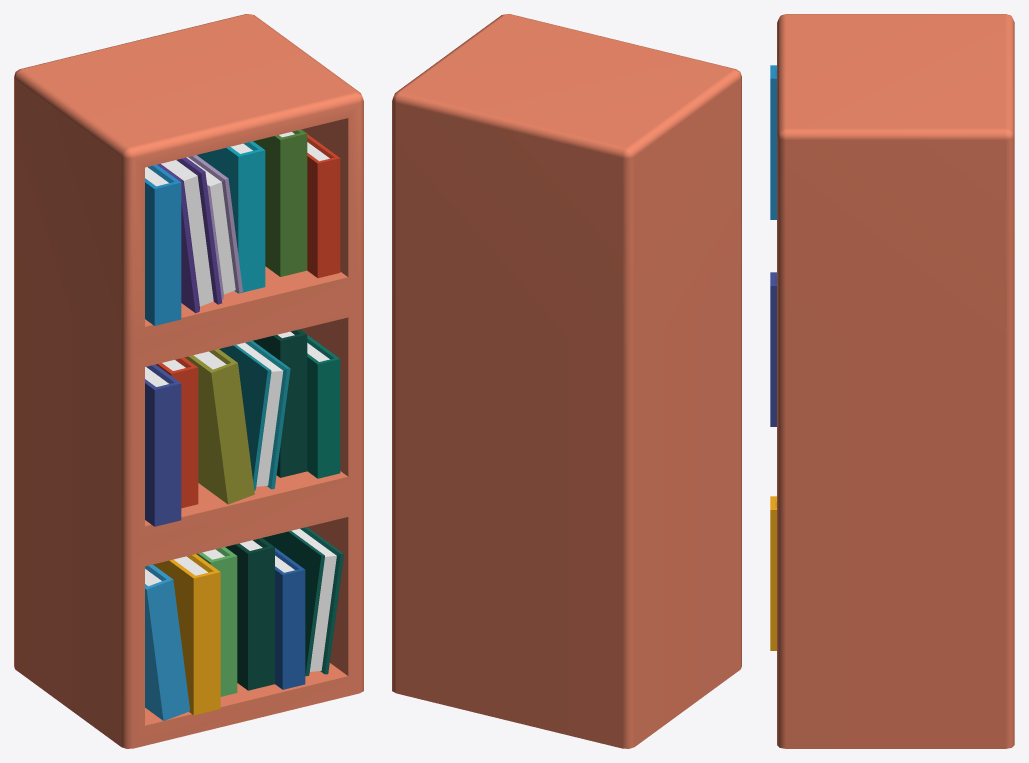
The model's file is Corwd_BookShelf_01.fbx.
The picture shows the model from 3 angles, left to right: view 1: azimuth 30°, elevation 25°; view 2: azimuth 150°, elevation 25°; view 3: azimuth 270°, elevation 25°; orthographic projection. The views are drawn at different scales.
Parts seen in each view (by area): view 1: Corwd_BookShelf_01; view 2: Corwd_BookShelf_01; view 3: Corwd_BookShelf_01.
Boxes of the visible parts, x1,y1,x2,y2 form: Corwd_BookShelf_01: (14,14,363,748); Corwd_BookShelf_01: (392,14,741,748); Corwd_BookShelf_01: (770,14,1014,748).
Bounding box in the file's own units: 117 × 277 × 99.52.
